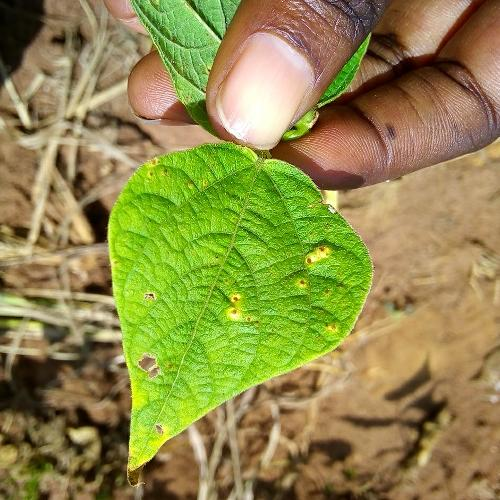hawar: (138, 151, 202, 199), (292, 237, 334, 302), (222, 280, 264, 332), (136, 344, 178, 386), (125, 460, 149, 487), (322, 317, 341, 338), (148, 418, 166, 436), (141, 287, 160, 299)
mozaik: (110, 213, 279, 256)
